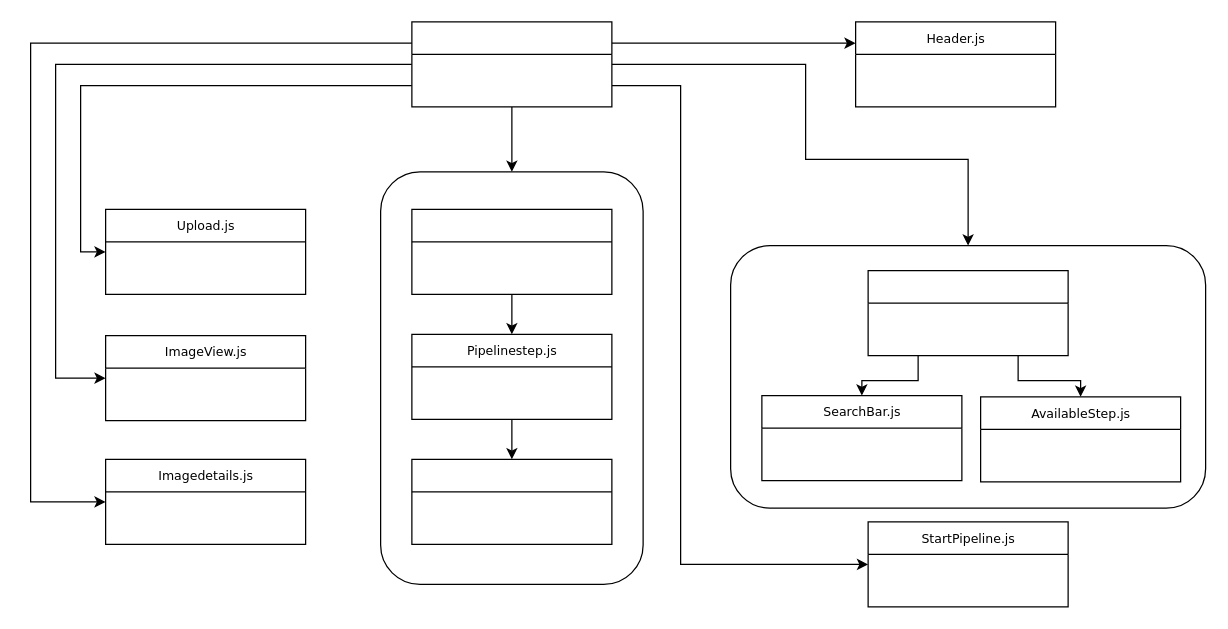
The diagram is 1228 pixels wide and 629 high, and some of its shapes have lost their labels. Each missing label, with the centre of its shape:
"App.js" belongs at pixel 511 64.
"AvailablePipelineSteps.js" belongs at pixel 967 312.
"Parameter.js" belongs at pixel 511 501.
"Pipeline.js" belongs at pixel 511 251.
